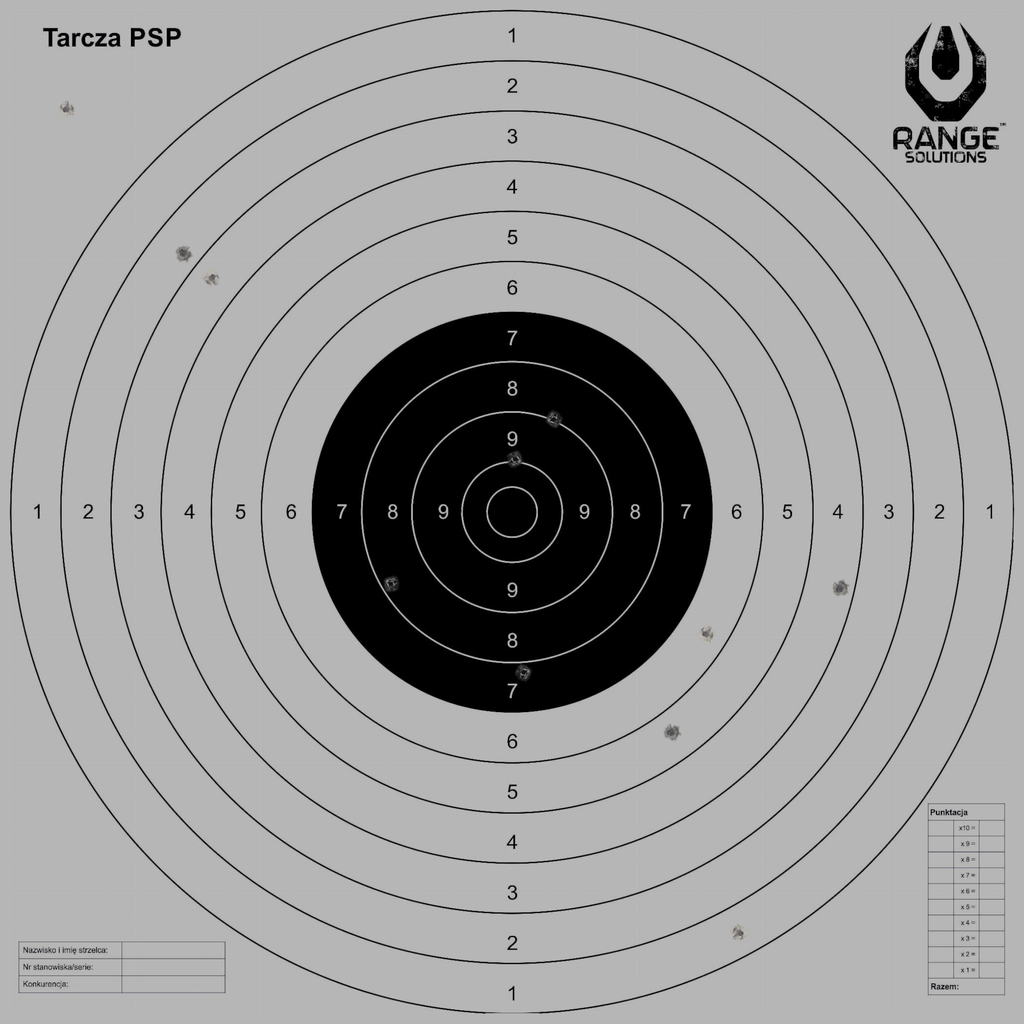0 punktow: (57, 100, 75, 119)
1 punkt: (731, 924, 749, 942)
10 punktow: (506, 450, 525, 469)
2 punkty: (174, 244, 192, 263)
3 punkty: (203, 269, 221, 287)
4 punkty: (831, 579, 849, 598)
5 punktow: (662, 723, 681, 742)
6 punktow: (697, 625, 715, 643)
7 punktow: (515, 663, 533, 681)
8 punktow: (381, 574, 400, 593)
9 punktow: (544, 410, 562, 429)
